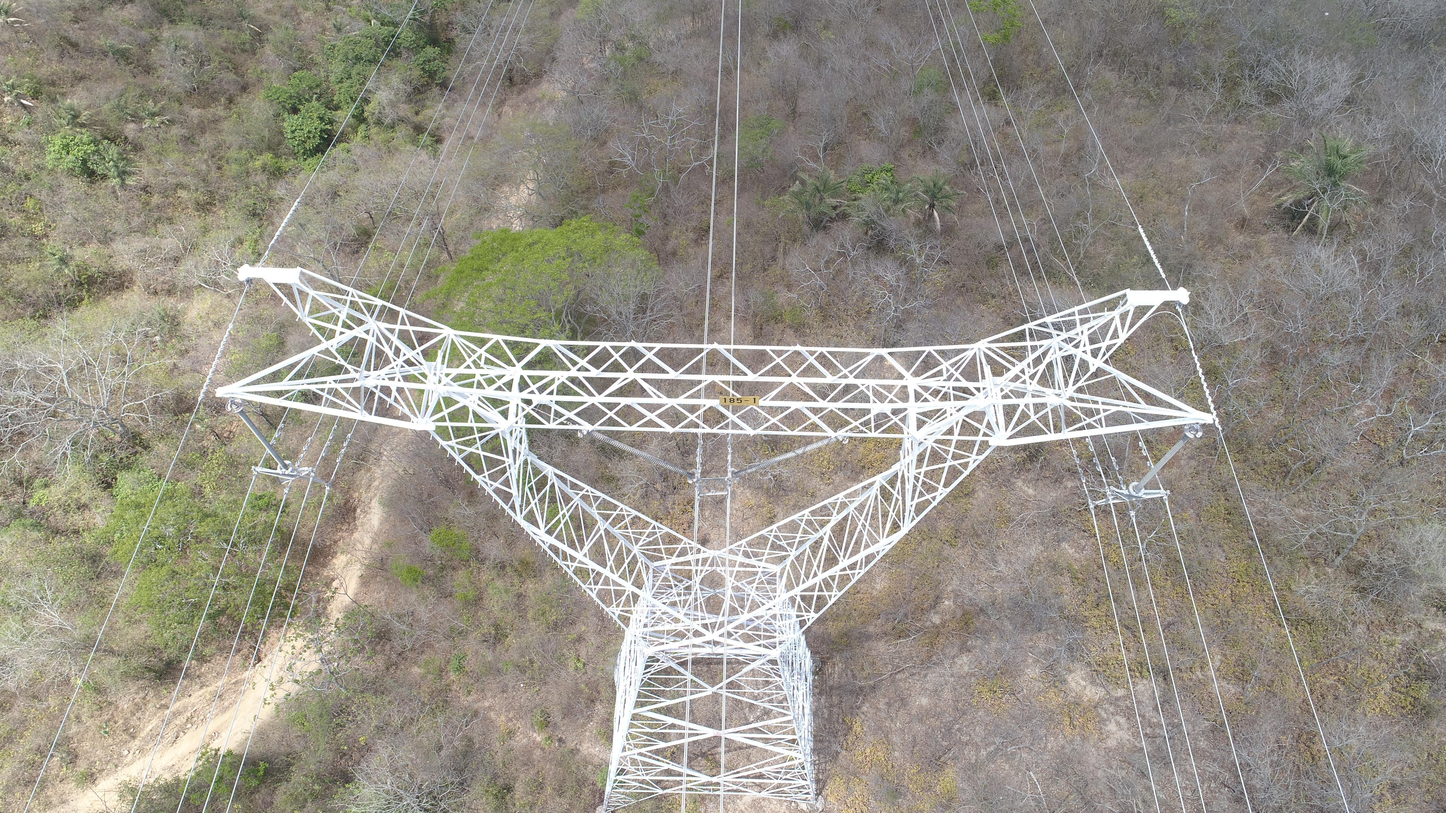power_tower: (213, 264, 1221, 813)
